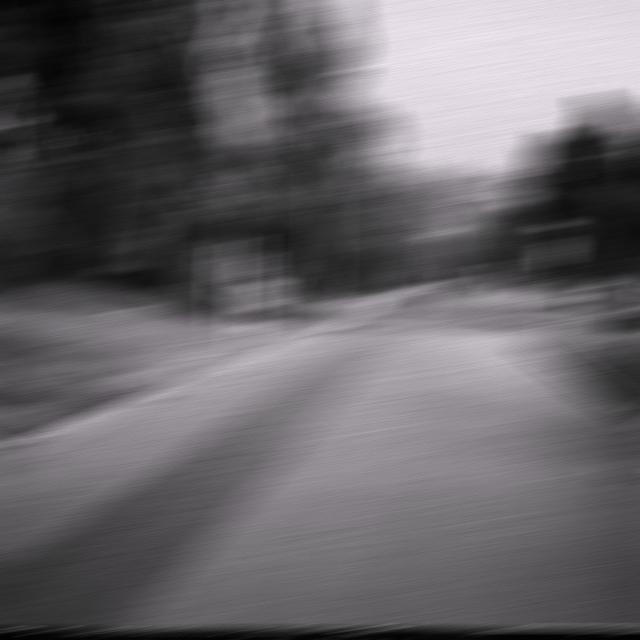stop_sign: (540, 238, 574, 268)
